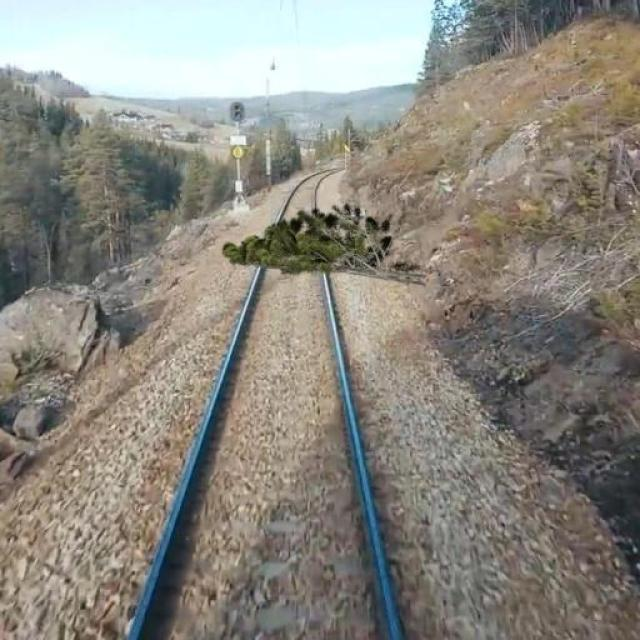Fallen Trees: (219, 203, 432, 288)
